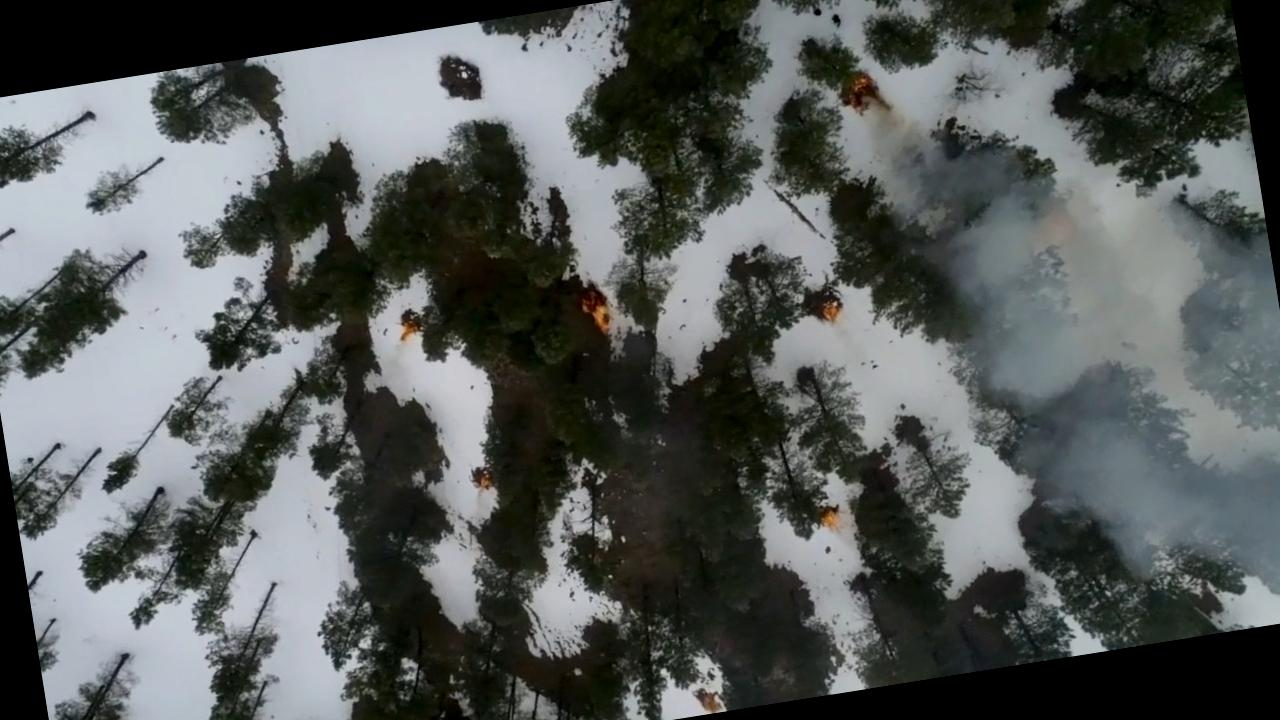fire: (838, 64, 892, 120), (582, 278, 630, 338), (814, 292, 850, 330), (812, 502, 846, 538)
smoke: (940, 131, 1280, 407), (1058, 362, 1280, 624)
